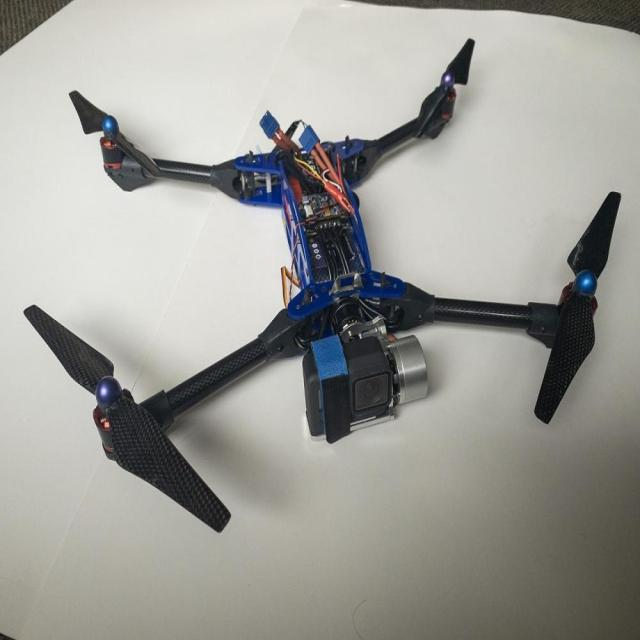drone: (9, 50, 640, 509)
